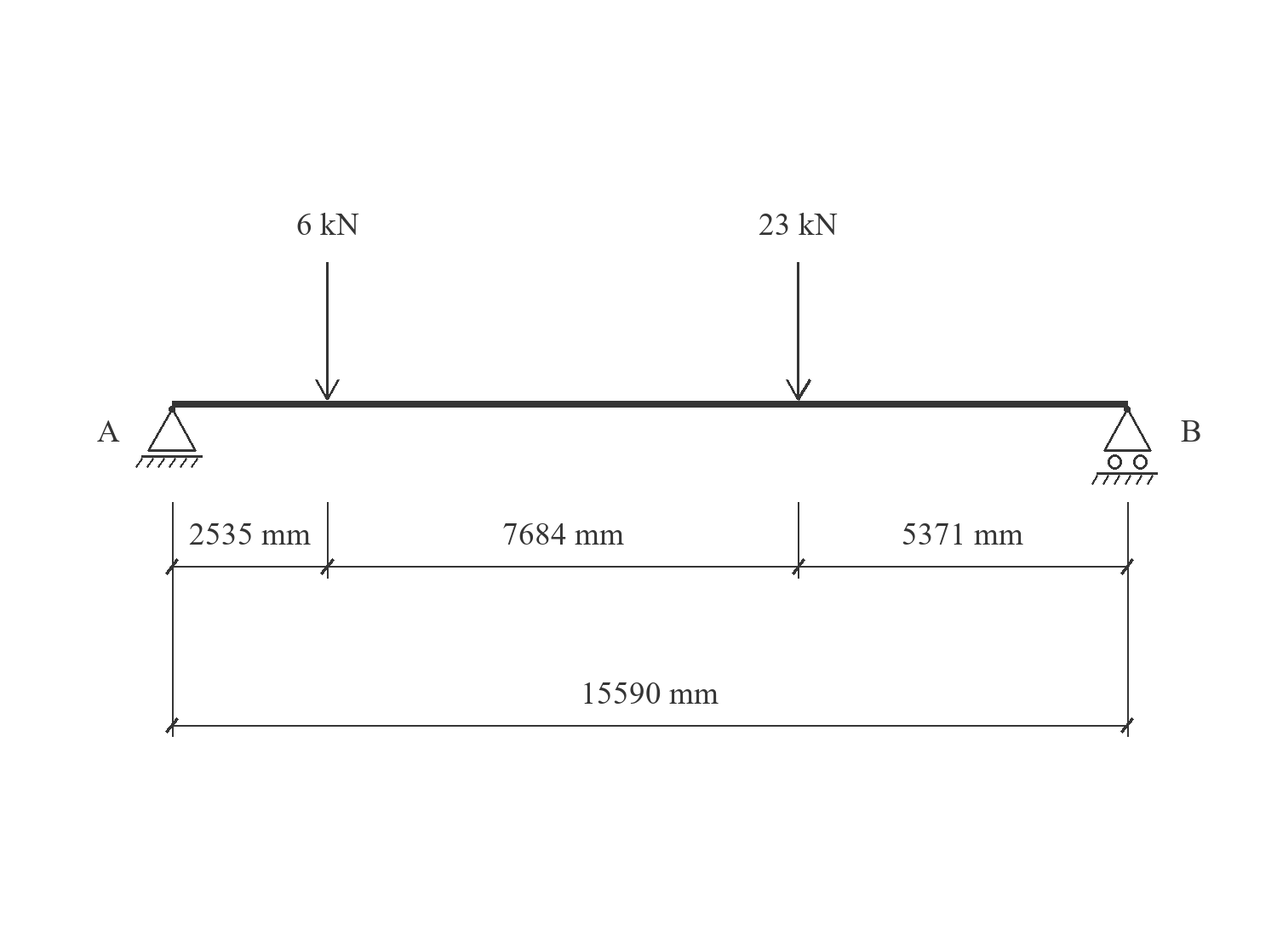pin_support: (135, 406, 203, 468)
point_load: (786, 262, 811, 401), (315, 262, 340, 400)
roller_support: (1091, 406, 1158, 485)
